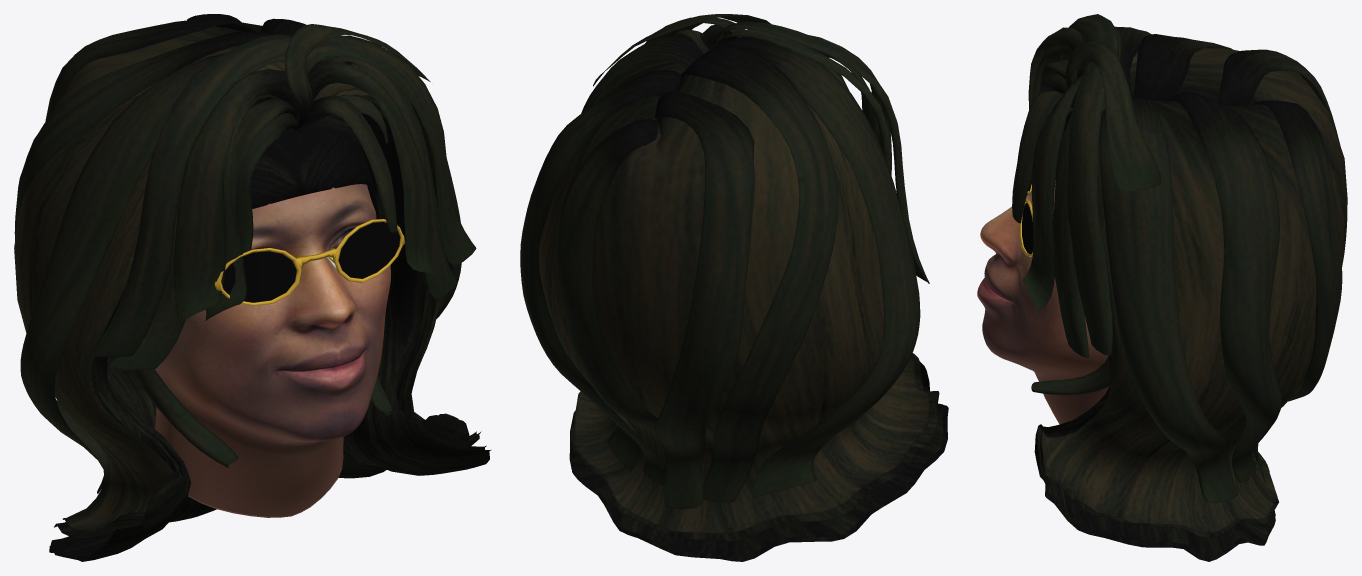
The model's file is DrMec.obj.
3 renders of one model, left to right at view 1: azimuth 30°, elevation 25°; view 2: azimuth 150°, elevation 25°; view 3: azimuth 270°, elevation 25°, orthographic. The views are drawn at different scales.
Parts seen in each view (by area): view 1: ShoulderLengthStraightFemaleBlack, skin_hi, eyeGlasses; view 2: ShoulderLengthStraightFemaleBlack; view 3: ShoulderLengthStraightFemaleBlack, skin_hi, eyeGlasses.
Boxes of the visible parts, box(x1,y1,x2,y2) form: ShoulderLengthStraightFemaleBlack: box(14, 14, 491, 561); skin_hi: box(155, 184, 390, 517); eyeGlasses: box(214, 219, 405, 305); ShoulderLengthStraightFemaleBlack: box(520, 14, 948, 561); ShoulderLengthStraightFemaleBlack: box(1012, 14, 1347, 561); skin_hi: box(977, 180, 1109, 424); eyeGlasses: box(1019, 181, 1033, 257).
Bounding box in the file's own units: 321 × 392 × 270.
Materials: 9 (9 with a texture image).
